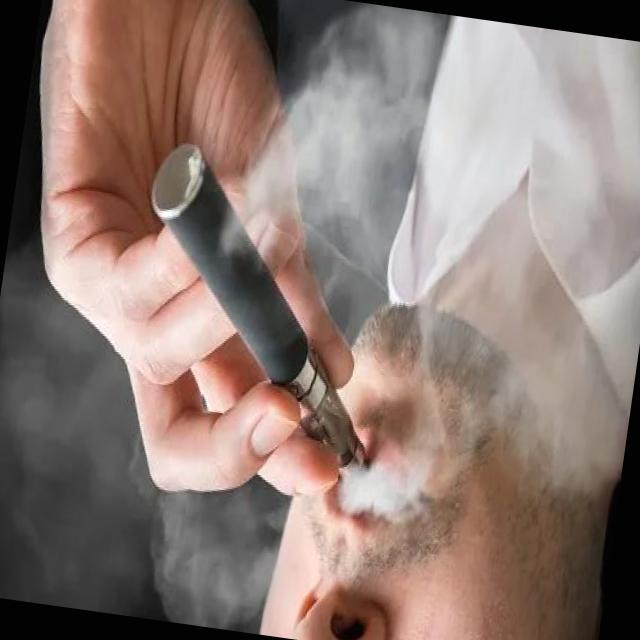smoke: (114, 134, 412, 490)
